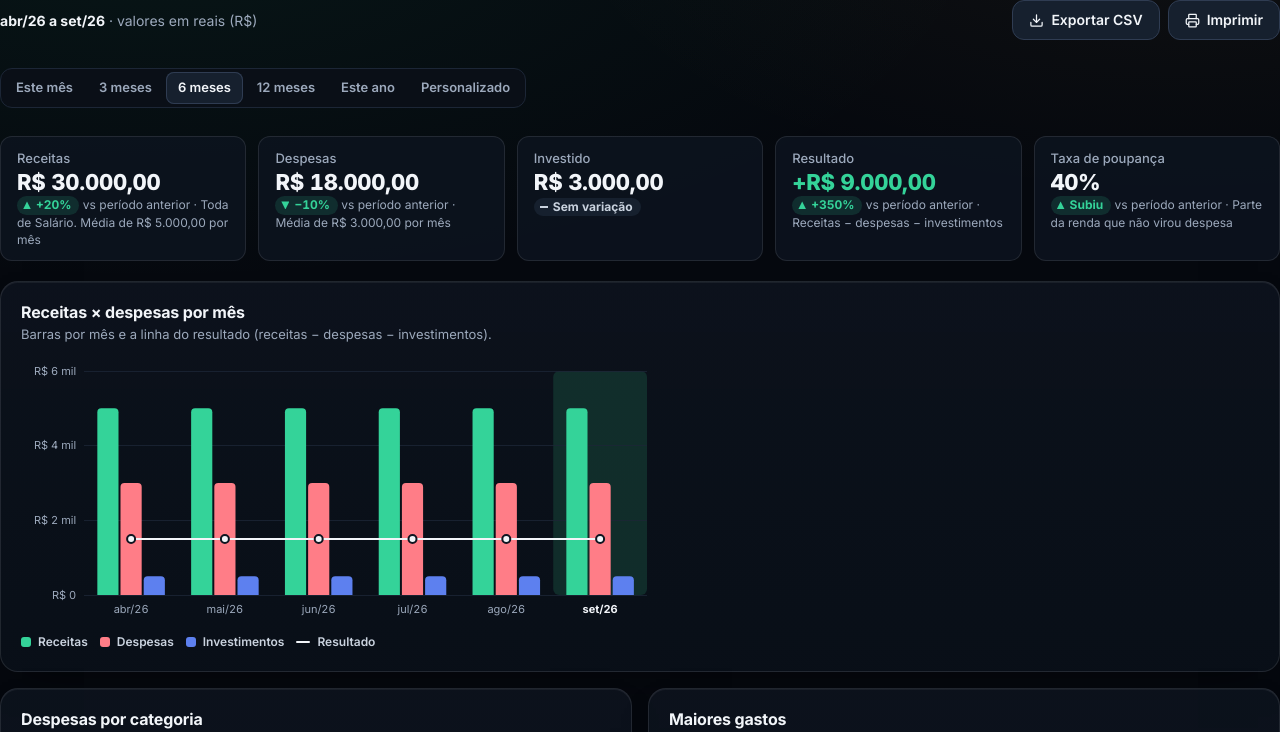
Test: ReportsPage › valida o período personalizado
Expected: the element named "Resumo do período" is shown, 0,136 -> 1279,261
Step 1. Click the radio button labelled "Personalizado" → [466, 88], box 409,72 -> 522,104
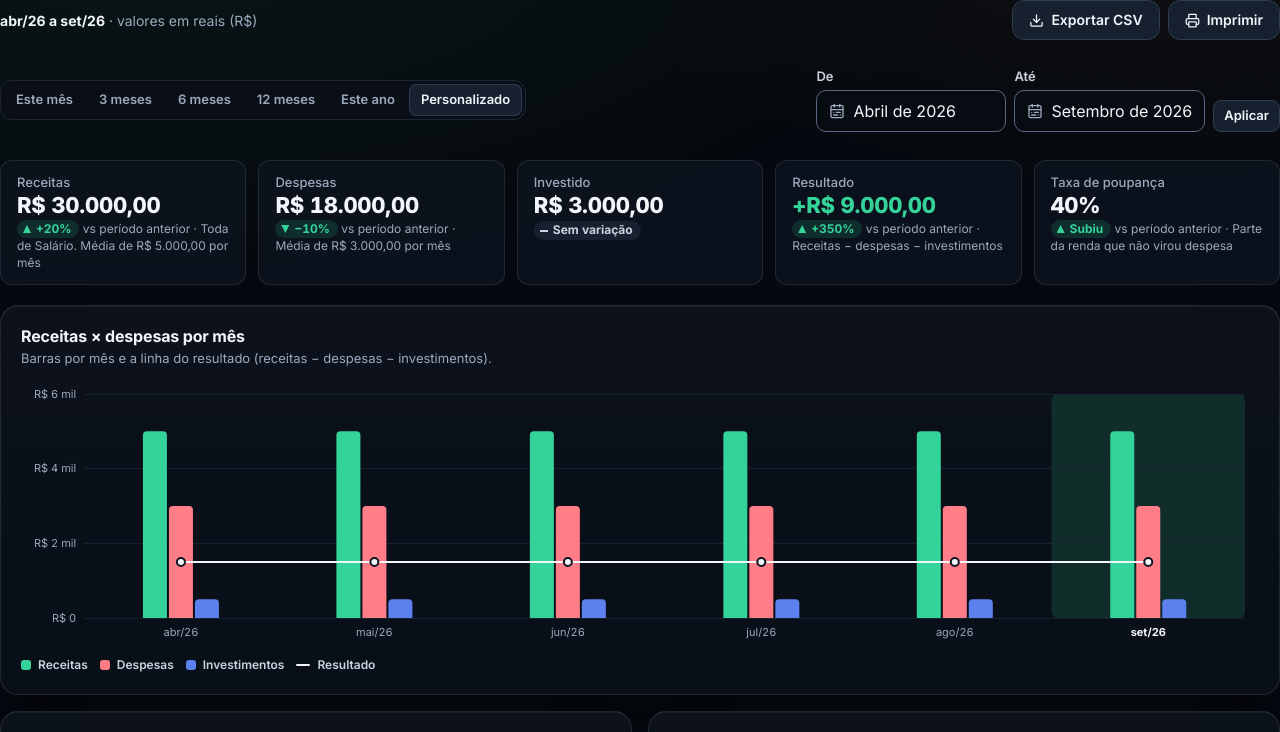
Step 2. Click the button "abril de 2026" → [912, 110], box 816,90 -> 1006,132
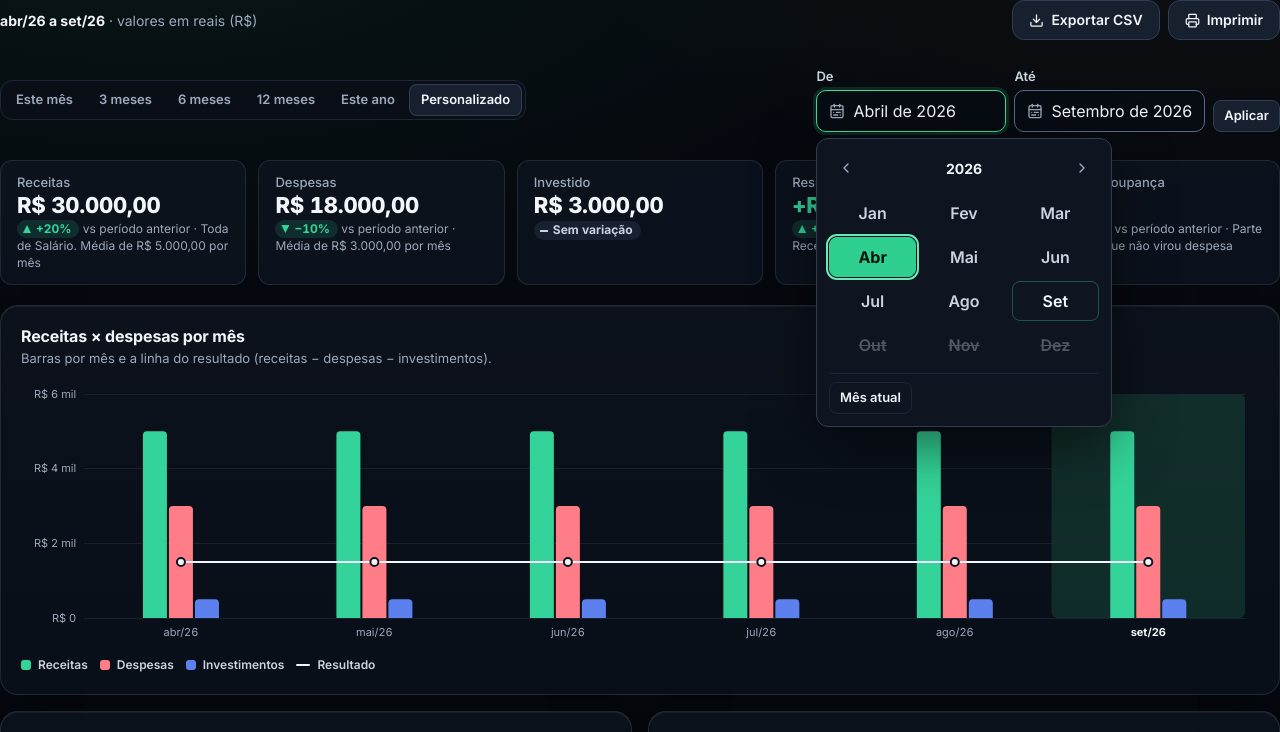
Step 3. Click the button with aria-label "setembro de 2026" → [1055, 301], box 1012,281 -> 1099,321
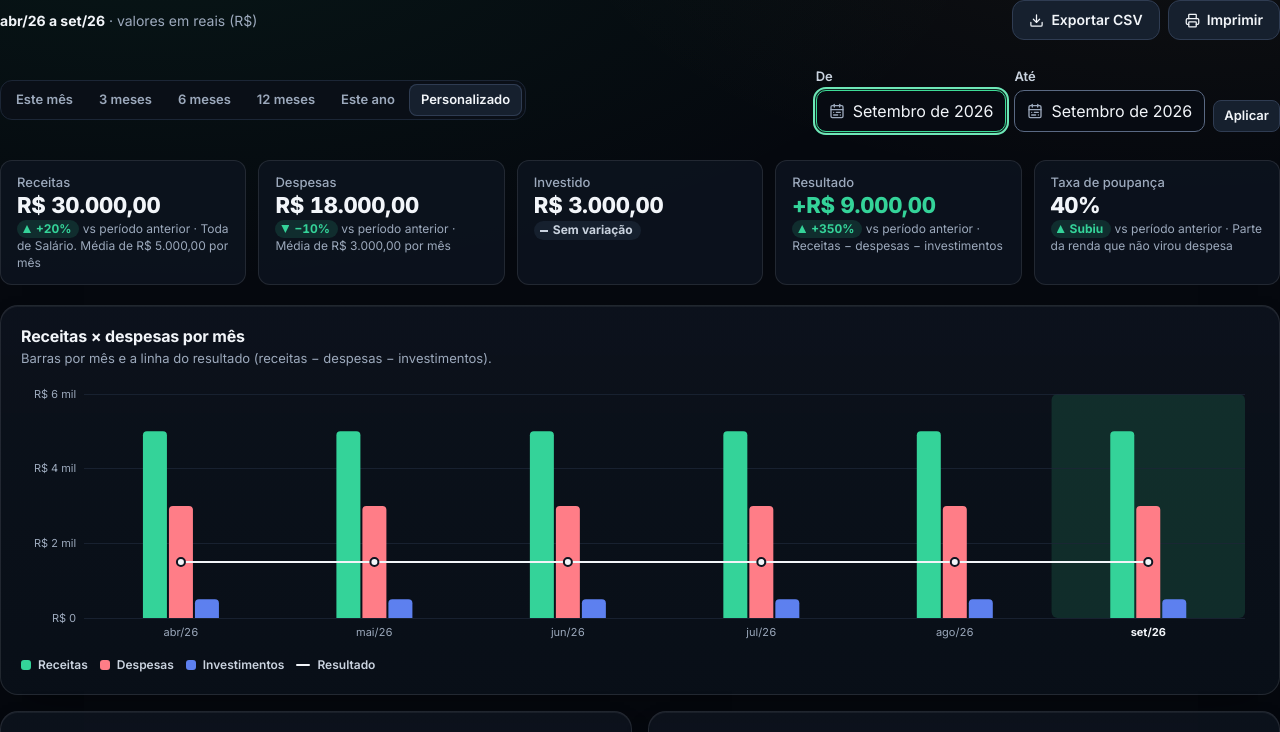
Step 4. Click the button named "Até" → [1110, 110], box 1014,90 -> 1205,132
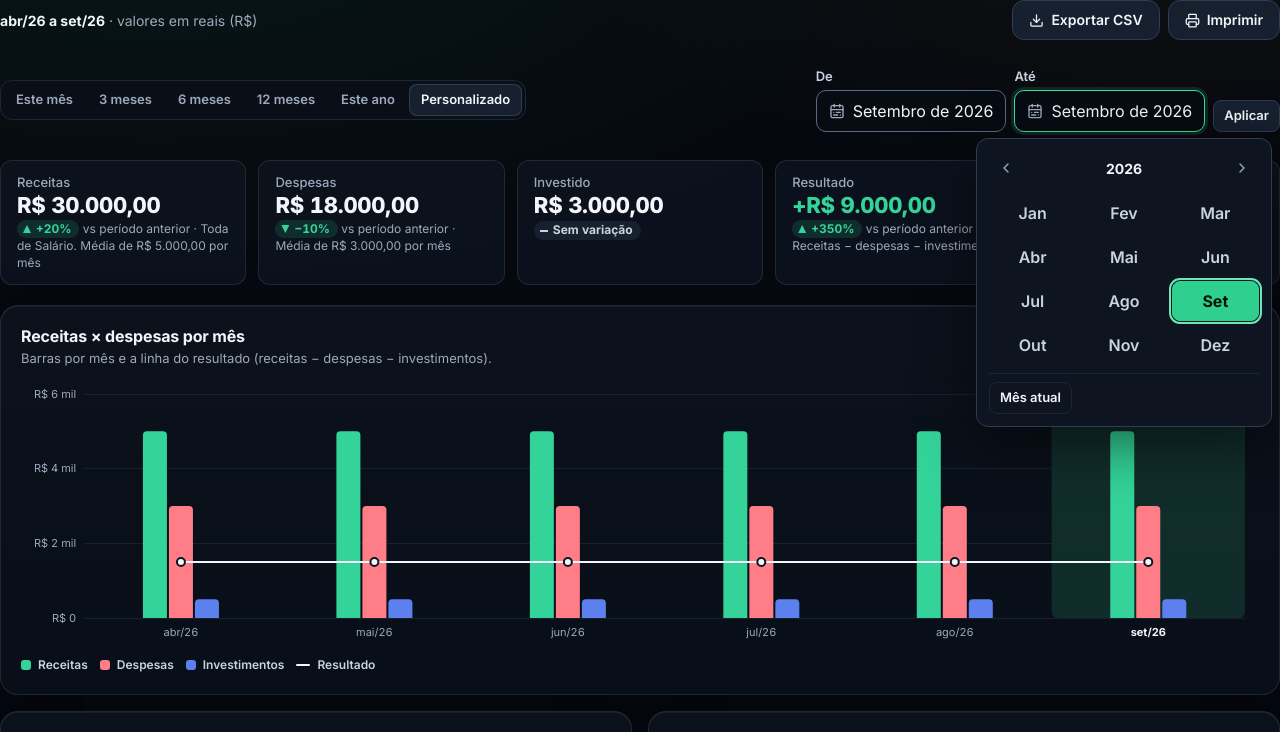
Step 5. Click the button with aria-label "janeiro de 2026" → [1033, 213], box 989,193 -> 1076,233
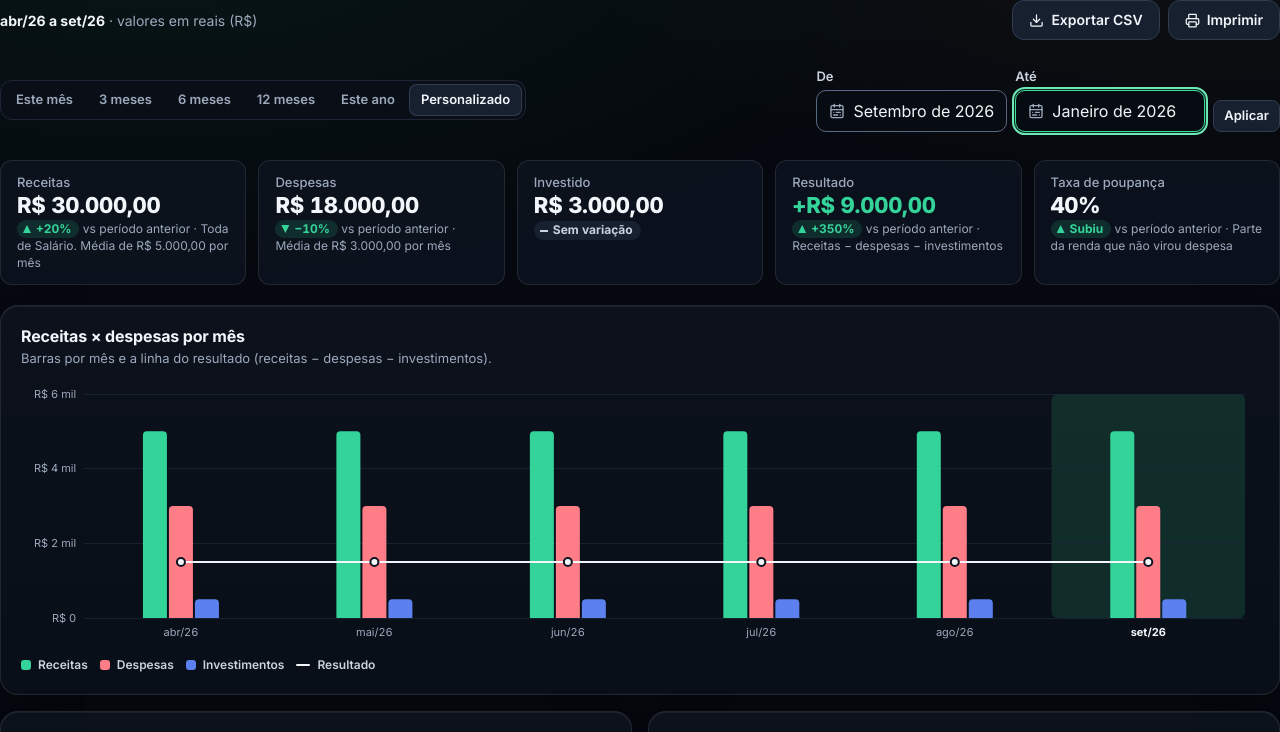
Step 6. Click the button "Aplicar" → [1247, 116], box 1213,100 -> 1279,132
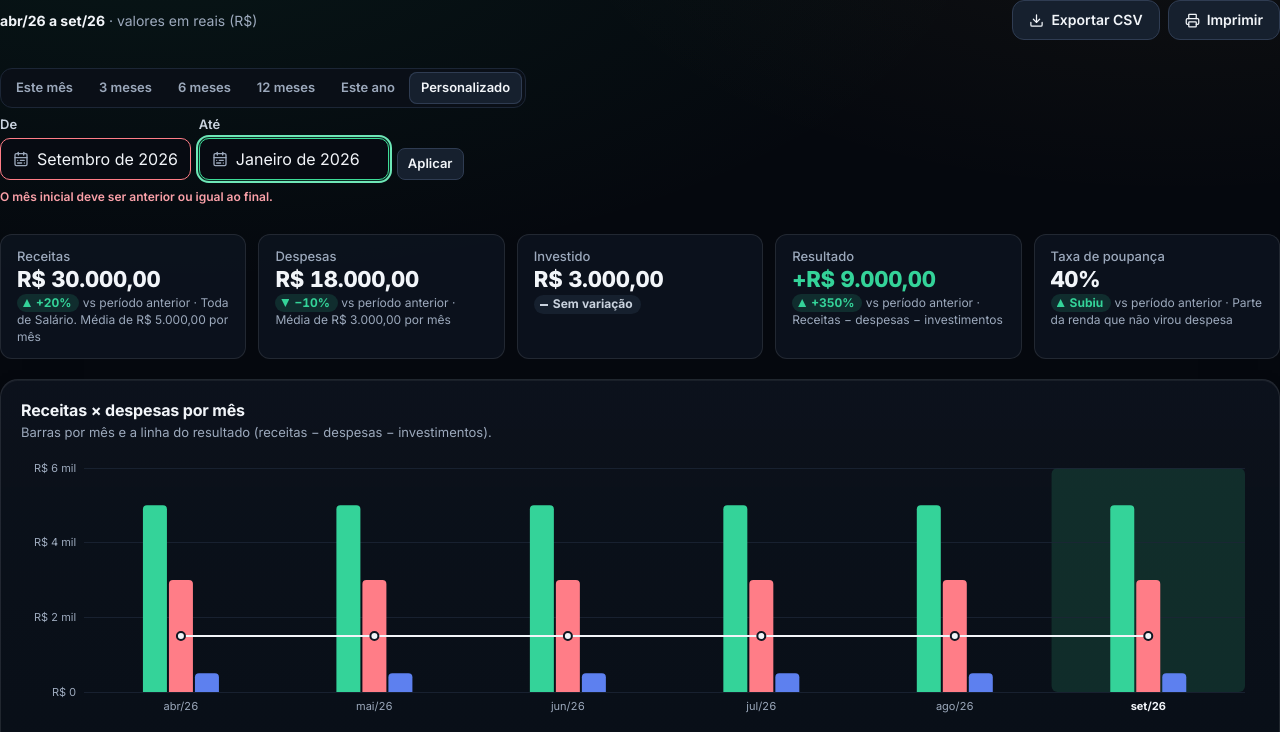
Expected: the message shows "anterior ou igual", 0,188 -> 273,204
